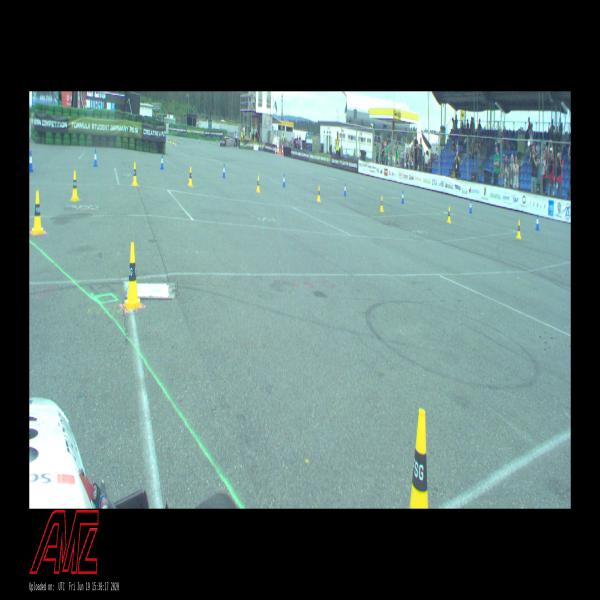blue_cone: (93, 149, 98, 167), (30, 150, 34, 172), (535, 214, 540, 231), (160, 154, 164, 169), (222, 164, 226, 178), (401, 190, 405, 203), (468, 200, 472, 213), (282, 174, 286, 187), (343, 183, 347, 195), (180, 136, 182, 141), (199, 138, 200, 144), (210, 138, 211, 143), (185, 138, 186, 142), (193, 138, 194, 142), (216, 139, 217, 143), (218, 139, 219, 143)
large_orange_cone: (277, 144, 279, 155), (279, 146, 281, 155), (282, 144, 283, 155), (275, 145, 276, 154)
yellow_cone: (410, 408, 428, 509), (123, 242, 143, 310), (31, 191, 45, 234), (70, 171, 80, 201), (132, 162, 138, 186), (516, 220, 522, 239), (188, 167, 193, 187), (446, 206, 451, 224), (256, 175, 260, 192), (380, 196, 384, 212), (317, 186, 321, 201), (175, 140, 177, 146), (167, 137, 169, 142), (170, 138, 171, 144), (173, 138, 174, 144)
